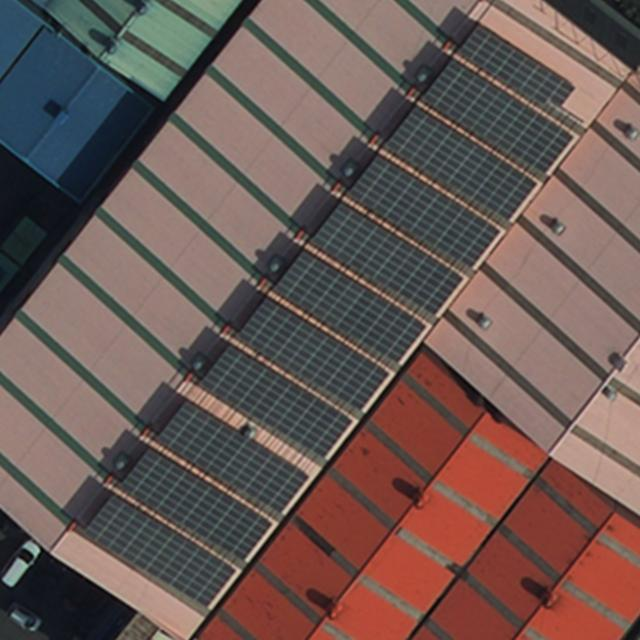panel: (339, 153, 509, 277), (227, 294, 393, 418), (302, 195, 465, 321), (379, 101, 541, 223), (263, 247, 426, 367), (112, 446, 275, 566), (77, 496, 242, 613), (153, 399, 312, 519), (192, 344, 356, 460), (422, 57, 575, 173), (454, 21, 577, 111)
